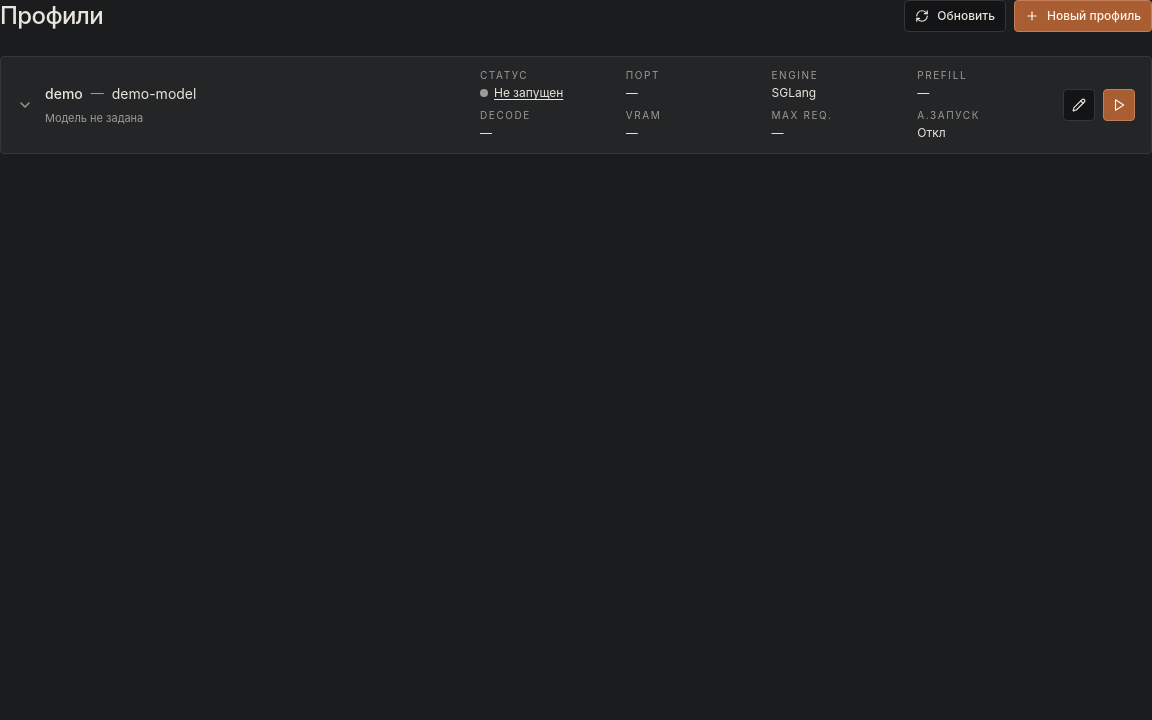
Test case: Explicit profile port › requires a valid explicit port for {{port}}: 0
The width and height of the screenshot is (1152, 720).
Click the button named "Изменить": (1079, 105) [1063,89,1095,121]
(page scrolled)
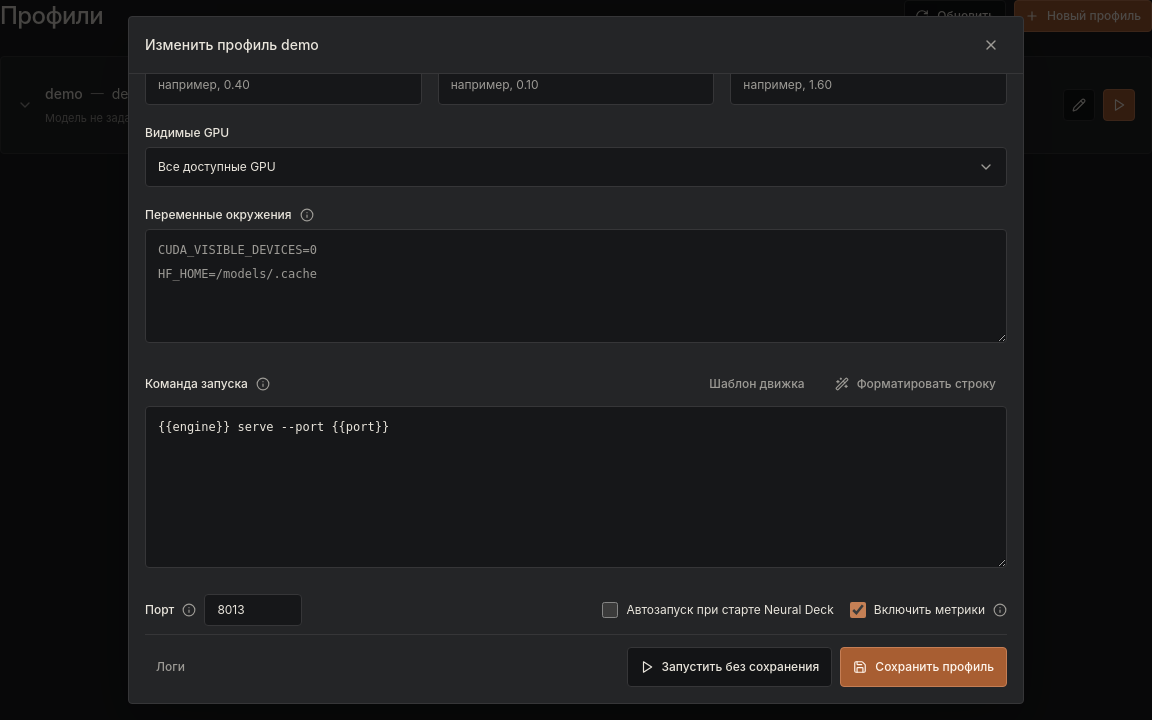
Expected: the text box labelled "Команда запуска" holds "{{engine}} serve --port {{port}}", [145,406,1007,568]
Replace the text in the number field labelled "Порт" with "0": (253, 610) [204,594,302,626]
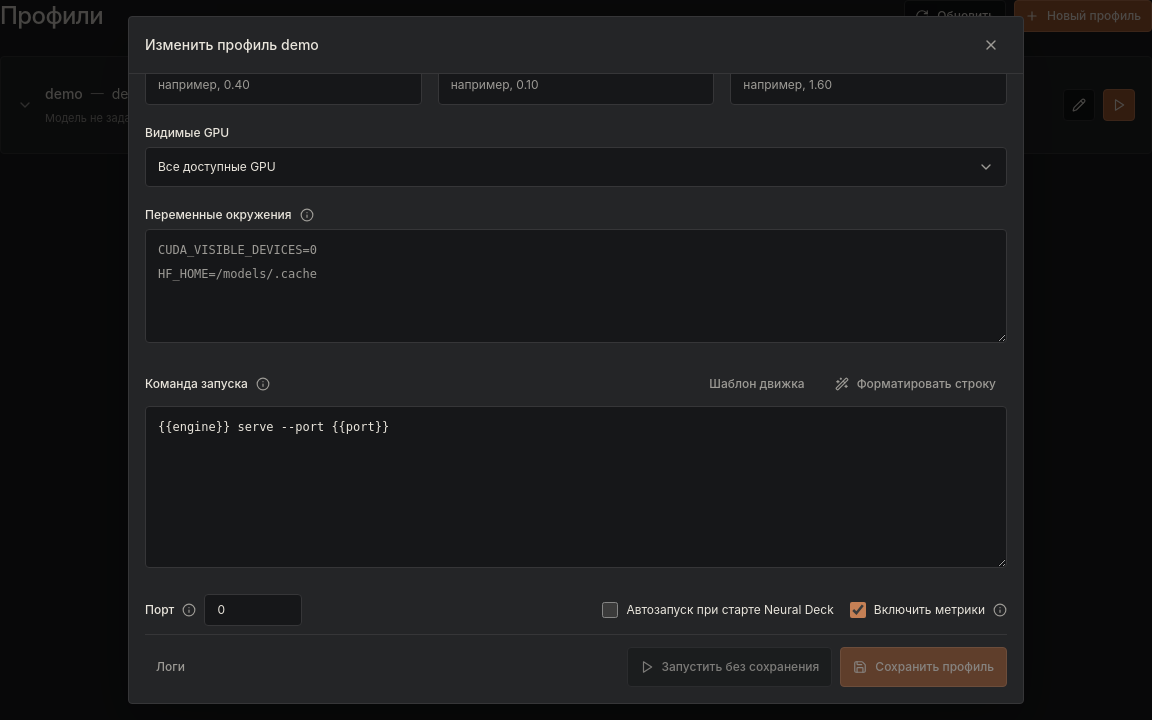
Expected: the button "Сохранить профиль" is disabled, [840,646,1007,686]
